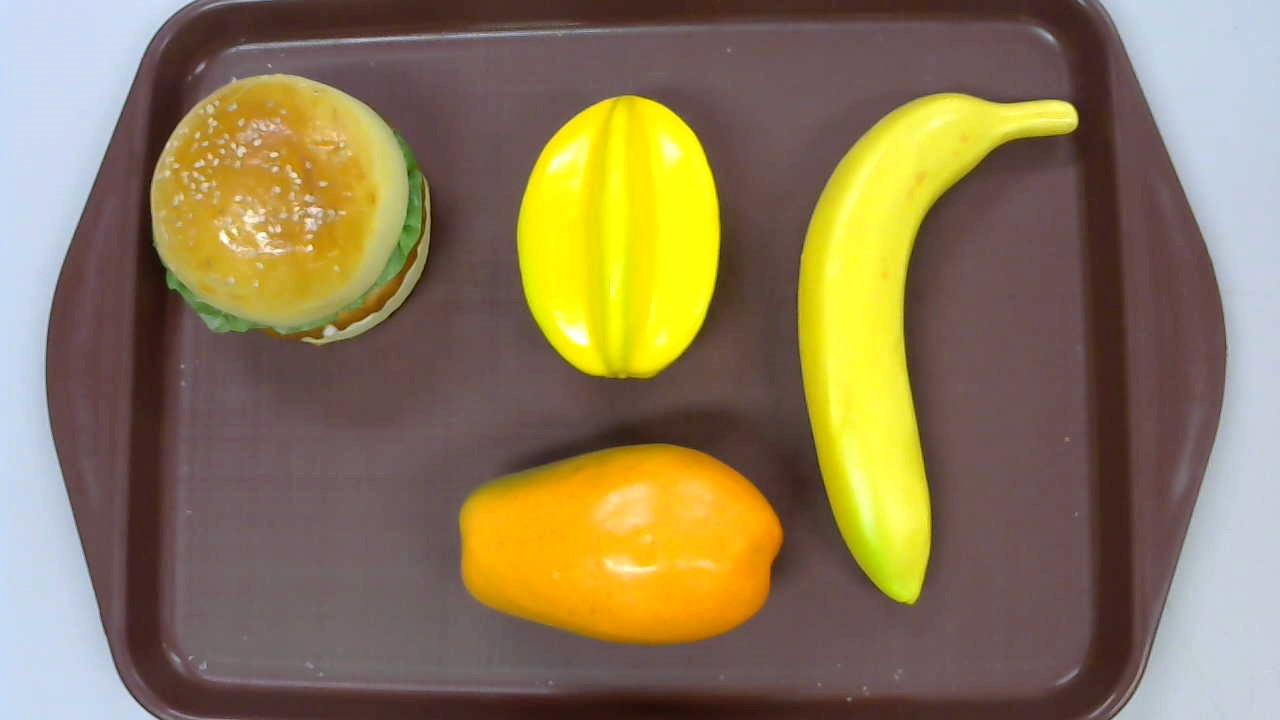banana: (797, 92, 1078, 605)
hamburger: (149, 74, 432, 345)
papya: (458, 443, 784, 645)
star fruit: (516, 96, 719, 378)
